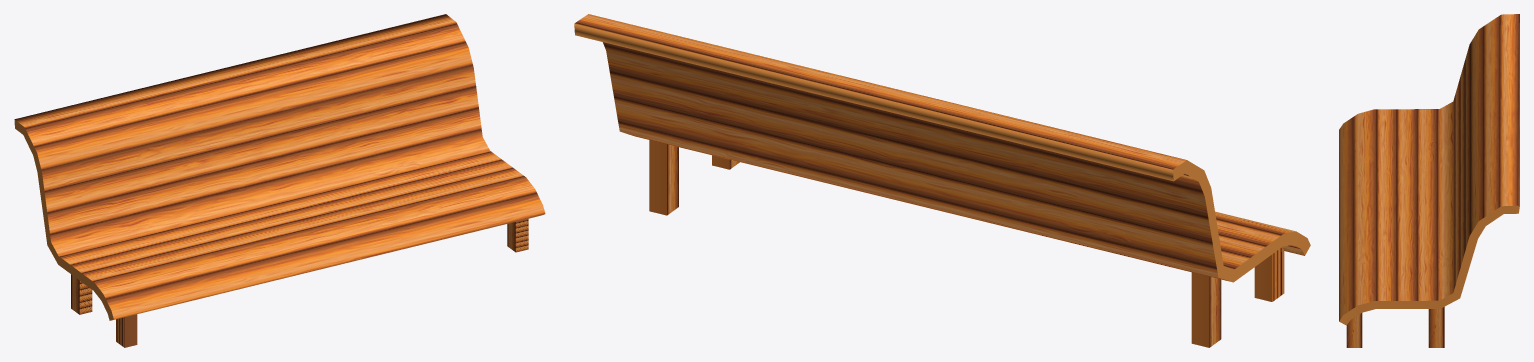
The model's file is bench 1.FBX.
3 views of the same model, side by side, from view 1: azimuth 30°, elevation 25°; view 2: azimuth 150°, elevation 25°; view 3: azimuth 270°, elevation 25° (orthographic). The views are drawn at different scales.
Visible parts, largest first — view 1: Line008, Box1675, Box021, Box1673; view 2: Line008, Box1675, Box1674, Box1673; view 3: Line008, Box1674, Box021.
Part boxes in pixels (bbox=[...]): Line008: bbox=[14, 14, 545, 320]; Box1675: bbox=[71, 274, 92, 314]; Box021: bbox=[507, 218, 528, 252]; Box1673: bbox=[116, 314, 137, 347]; Line008: bbox=[574, 14, 1310, 282]; Box1675: bbox=[1191, 272, 1221, 347]; Box1674: bbox=[649, 140, 678, 215]; Box1673: bbox=[1254, 247, 1284, 301]; Line008: bbox=[1339, 14, 1519, 325]; Box1674: bbox=[1428, 307, 1444, 347]; Box021: bbox=[1346, 313, 1362, 347].
Size of the model in its own units: 166 by 59.57 by 66.03.
3 materials, 3 textured.
